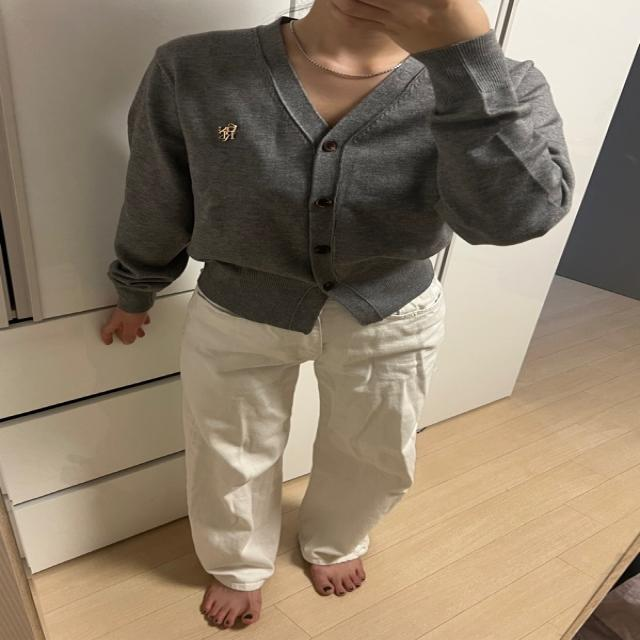cardigan: (110, 16, 573, 334)
cottonpants: (186, 278, 442, 591)
